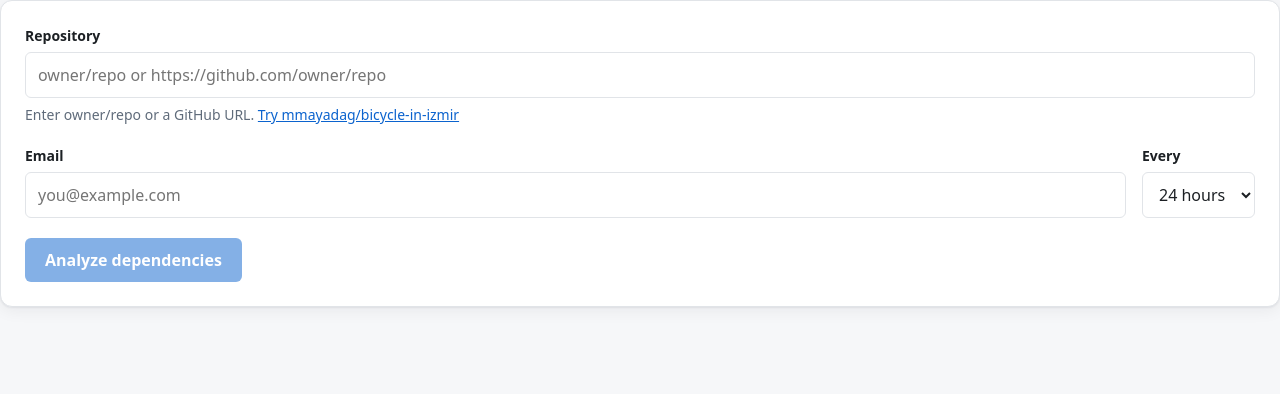
Test: RepositoryCheck › shows the API error message when the request fails
Type "mmayadag/app" into the field labelled "Repository" at coordinates (640, 75), box [25,52,1255,98]
Wait 300 ms
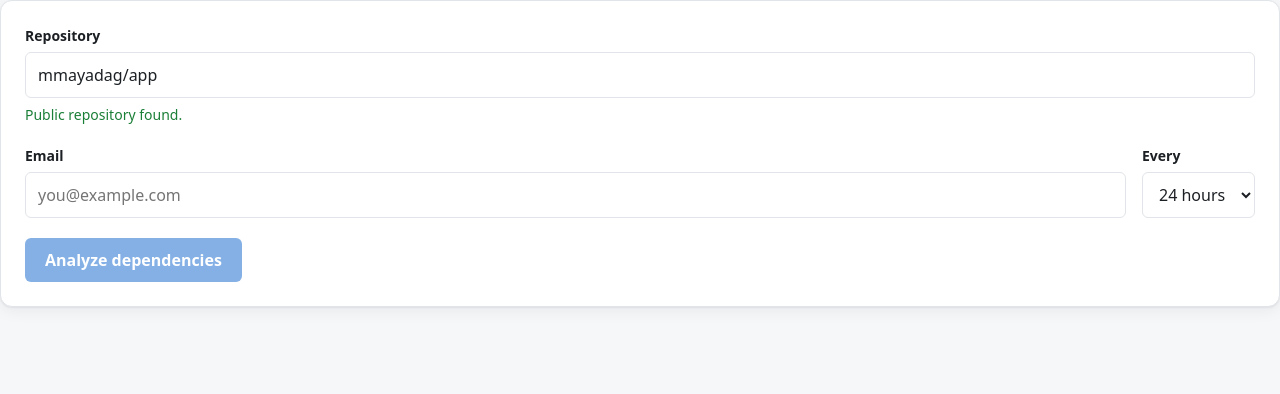
Expected: the text "Public repository found." is shown, [25,105,182,124]
Type "dev@example.com" into the field labelled "Email" at coordinates (576, 195), box [25,172,1126,218]
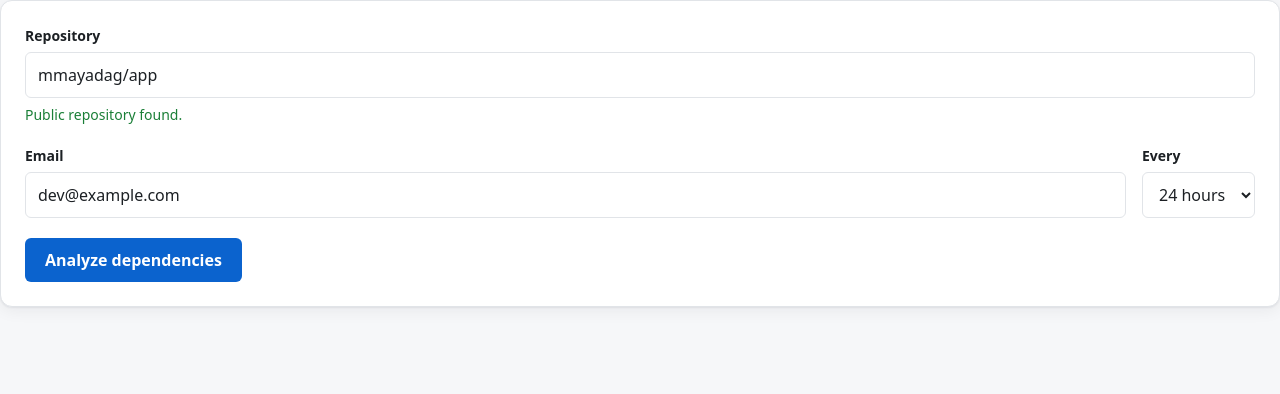
Click the button "Analyze dependencies" at coordinates (133, 260), box [25,238,242,282]
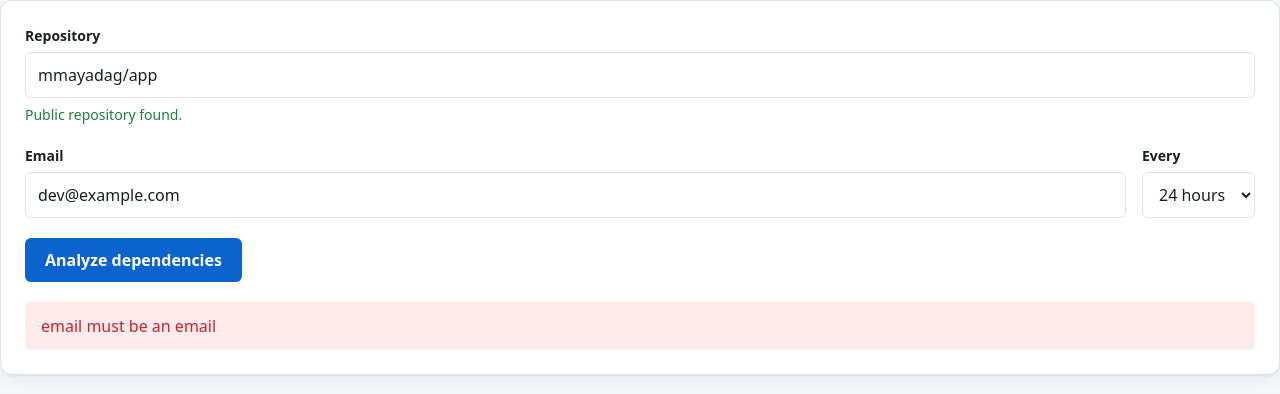
Expected: the message reads "email must be an email", [41,315,216,337]
